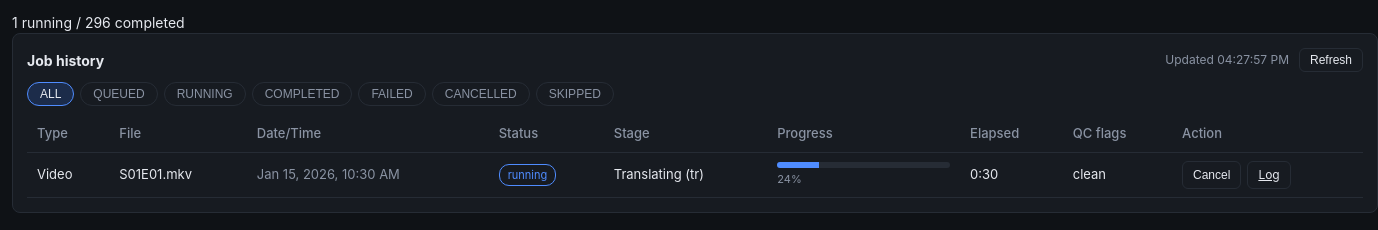
Test: JobsPage Refresh button › refreshes the header counts as well as the job list
Expected: the text "running" is shown, x1=499 y1=164 x2=556 y2=186
Expected: the text with test id "header" reads "1 running / 296 completed", x1=12 y1=14 x2=185 y2=31
Click the button "Refresh" at {"x": 1331, "y": 60}, box x1=1299 y1=48 x2=1363 y2=72
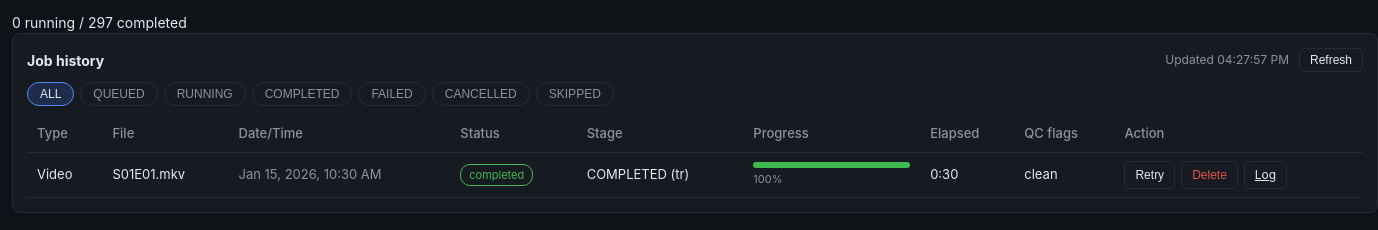
Expected: the text "completed" is shown, x1=460 y1=164 x2=533 y2=186
Expected: the text with test id "header" reads "0 running / 297 completed", x1=12 y1=14 x2=187 y2=31
